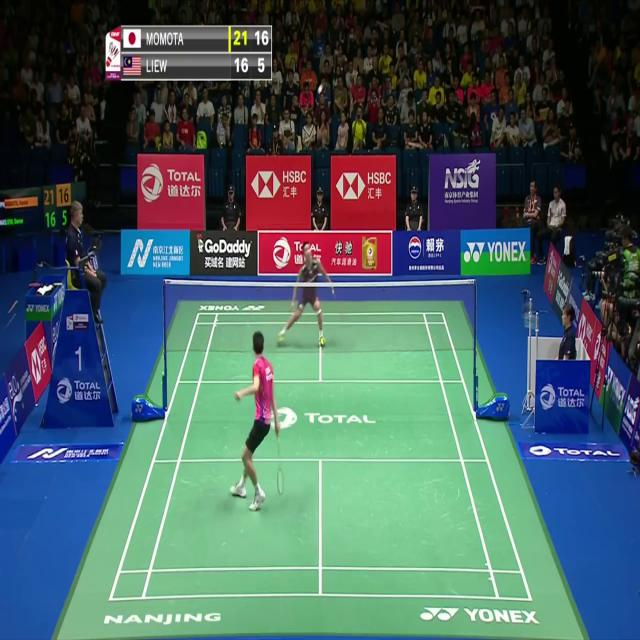Shuttlecock: (317, 83, 323, 95)
